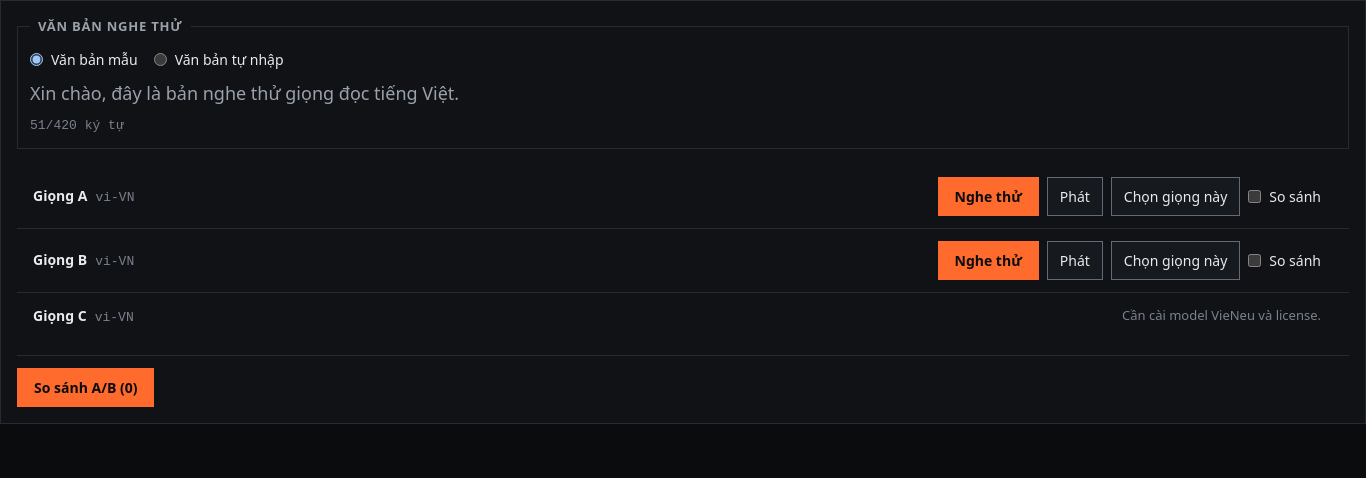
Scenario: VoicePreviewPanel (A02) › hiện mã lỗi backend khi tạo bản nghe thử thất bại
Click the button "Nghe thử" in the row of "Giọng A" at {"x": 988, "y": 196}, box x1=938 y1=177 x2=1039 y2=216
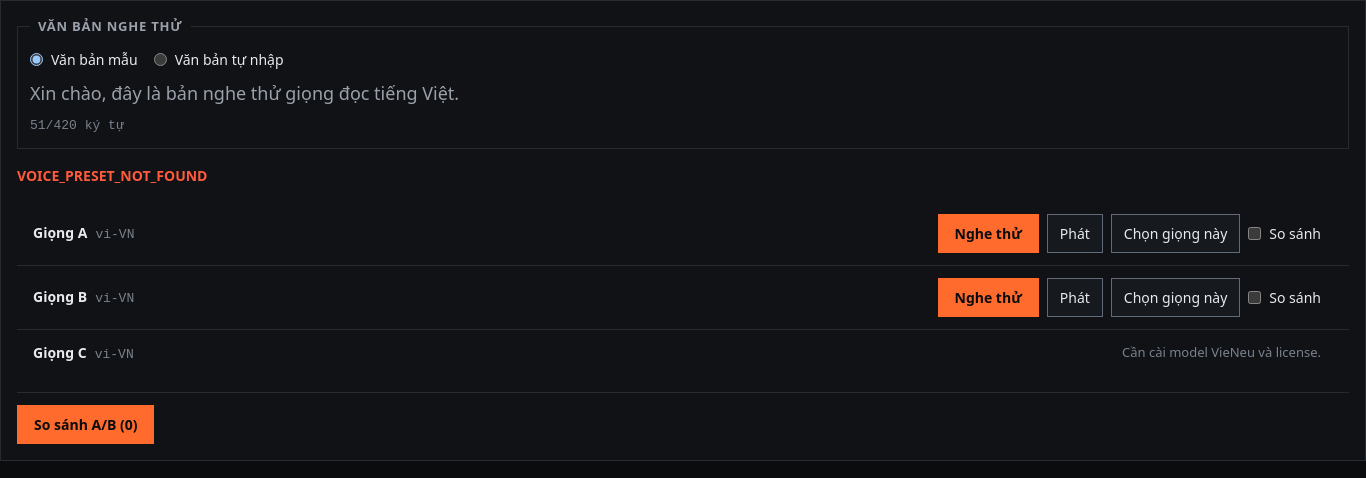
Expected: the message "VOICE_PRESET_NOT_FOUND" is shown, x1=17 y1=166 x2=208 y2=185
